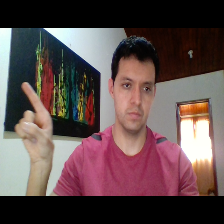2T: (10, 77, 63, 166)
